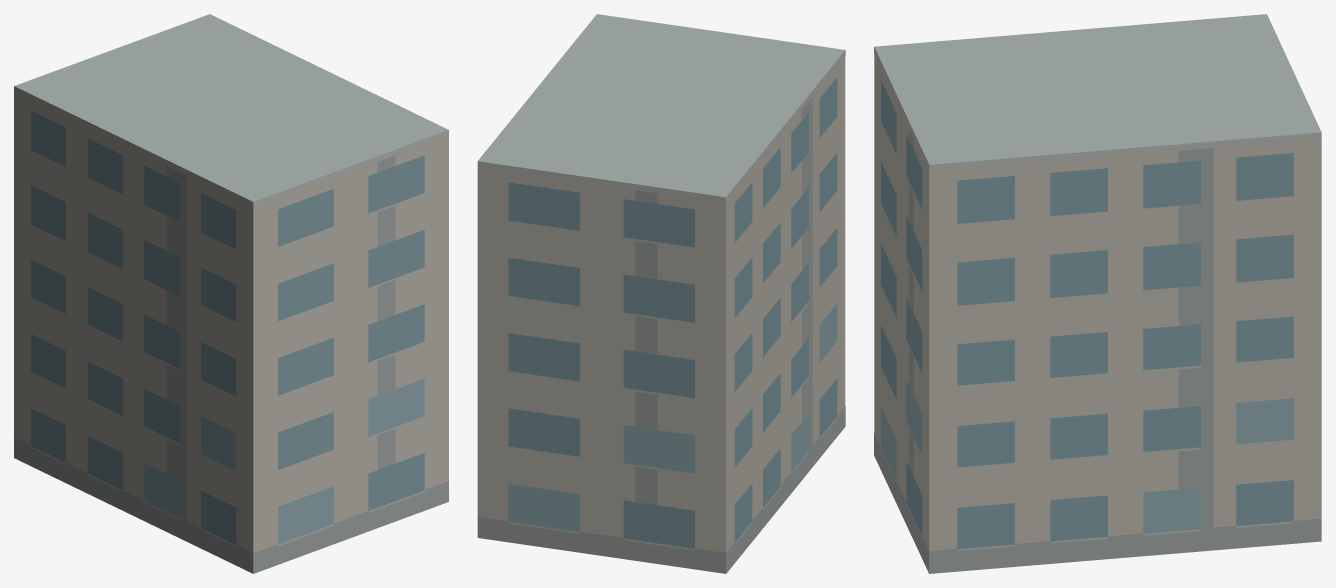
The model's file is residential-79436cfd-8618-4f76-beb9-d35f308a0bf4.glb.
3 views of the same model, side by side, from view 1: azimuth 30°, elevation 25°; view 2: azimuth 150°, elevation 25°; view 3: azimuth 270°, elevation 25° (orthographic). The views are drawn at different scales.
Parts seen in each view (by area): view 1: residential-79436cfd-8618-4f76-beb9-d35f308a0bf4.tmp; view 2: residential-79436cfd-8618-4f76-beb9-d35f308a0bf4.tmp; view 3: residential-79436cfd-8618-4f76-beb9-d35f308a0bf4.tmp.
Part boxes in pixels (bbox=[...]): residential-79436cfd-8618-4f76-beb9-d35f308a0bf4.tmp: bbox=[14, 14, 448, 573]; residential-79436cfd-8618-4f76-beb9-d35f308a0bf4.tmp: bbox=[477, 14, 845, 573]; residential-79436cfd-8618-4f76-beb9-d35f308a0bf4.tmp: bbox=[874, 14, 1321, 573].
Size of the model in its own units: 12.07 by 15.25 by 15.13.
